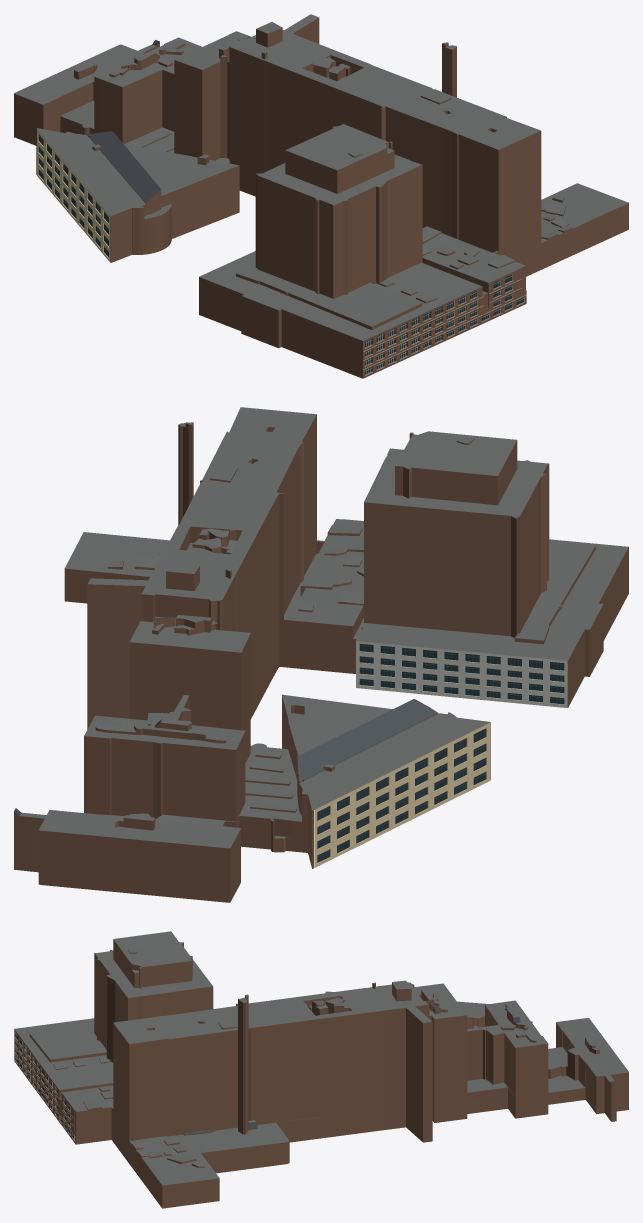
The model's file is recipe-large-nieuwe-achtergracht-127-185420.glb.
3 views of the same model, one above another, from view 1: azimuth 30°, elevation 25°; view 2: azimuth 150°, elevation 25°; view 3: azimuth 270°, elevation 25° (orthographic). The views are drawn at different scales.
Visible parts, largest first — view 1: nieuwe-achtergracht-127-185420; view 2: nieuwe-achtergracht-127-185420; view 3: nieuwe-achtergracht-127-185420.
Boxes of the visible parts, box(x1,y1,x2,y2) form: nieuwe-achtergracht-127-185420: box(14, 14, 628, 378); nieuwe-achtergracht-127-185420: box(14, 407, 628, 902); nieuwe-achtergracht-127-185420: box(14, 931, 628, 1208).
Bounding box in the file's own units: 143 × 59.23 × 210.
